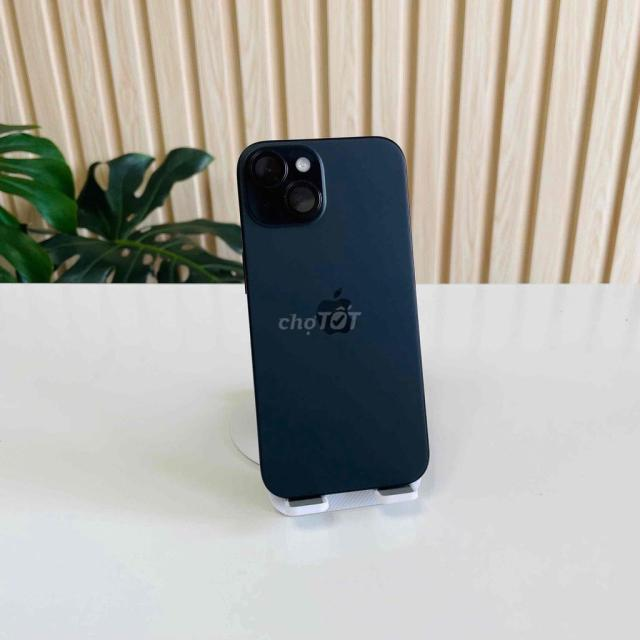gen_15: (222, 133, 436, 536)
